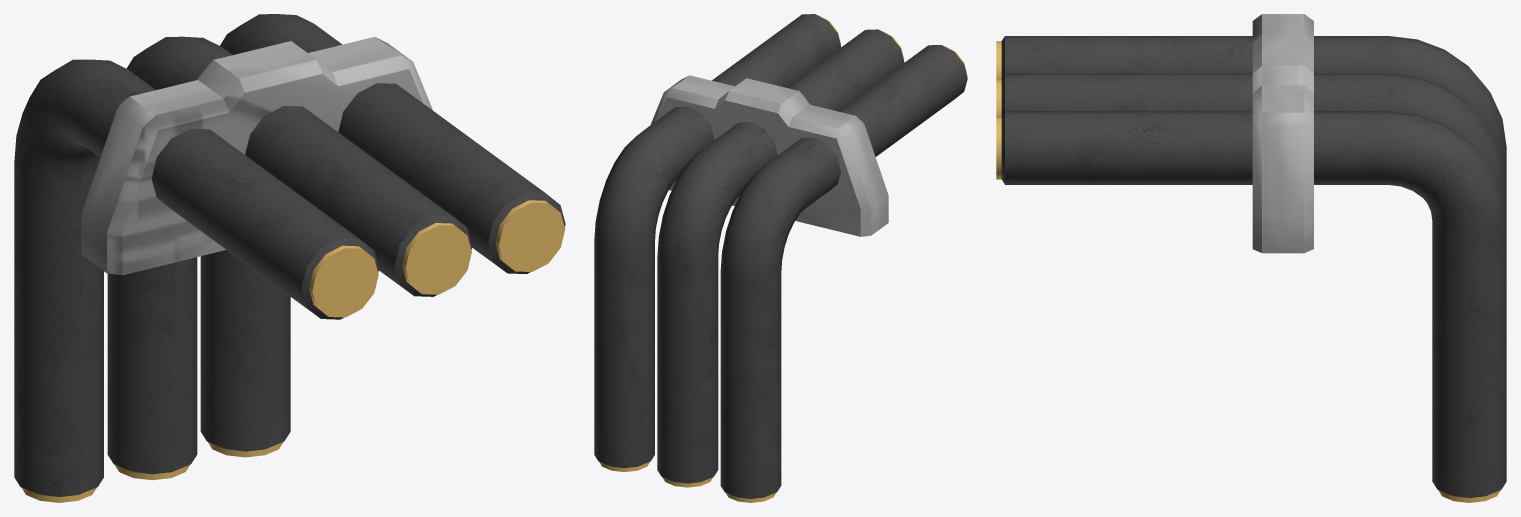
Rendered from 3_pipes_90_toground.fbx.
3 renders of one model, left to right at view 1: azimuth 30°, elevation 25°; view 2: azimuth 150°, elevation 25°; view 3: azimuth 270°, elevation 25°, orthographic. The views are drawn at different scales.
Visible parts, largest first — view 1: 3_pipes_90_toground; view 2: 3_pipes_90_toground; view 3: 3_pipes_90_toground.
Part boxes in pixels (left/top/right/bottom): 3_pipes_90_toground: left=14, top=14, right=565, bottom=502; 3_pipes_90_toground: left=594, top=14, right=967, bottom=502; 3_pipes_90_toground: left=996, top=14, right=1506, bottom=502.
Bounding box in the file's own units: 220 × 299 × 344.
